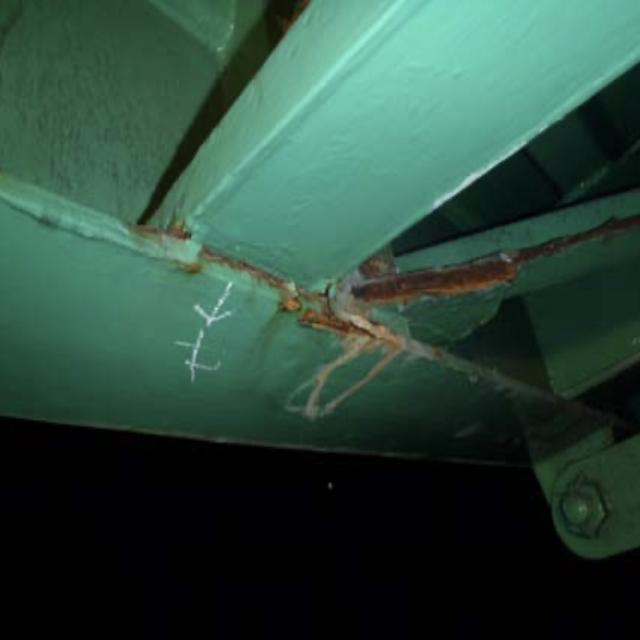corrosion: (240, 213, 636, 333)
